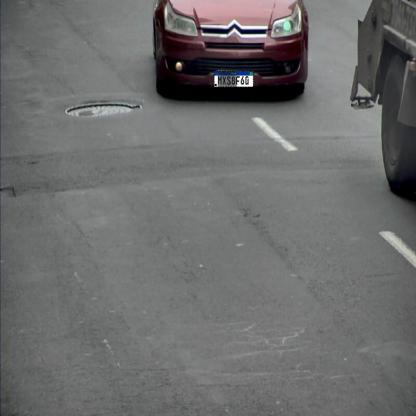PlacaM: (213, 71, 254, 87)
